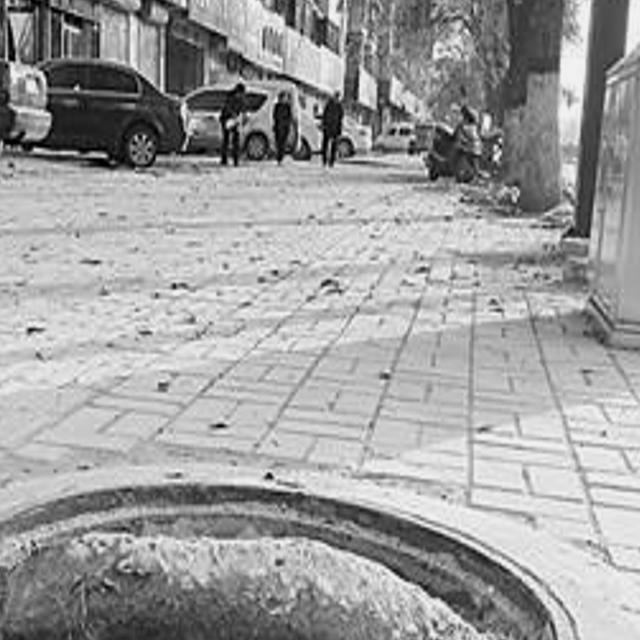lose: (0, 459, 640, 640)
